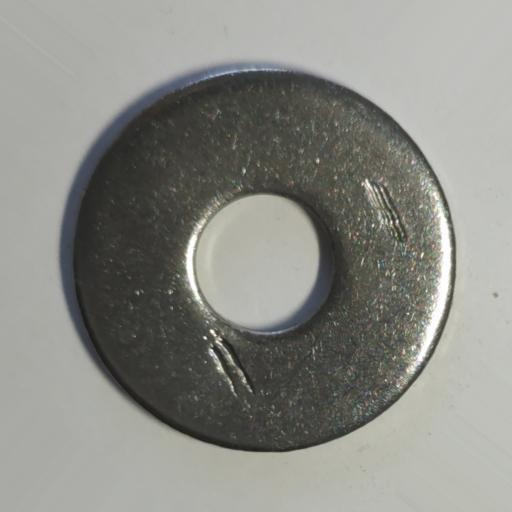scratch: (364, 180, 406, 242), (214, 336, 256, 395), (207, 346, 238, 400)
